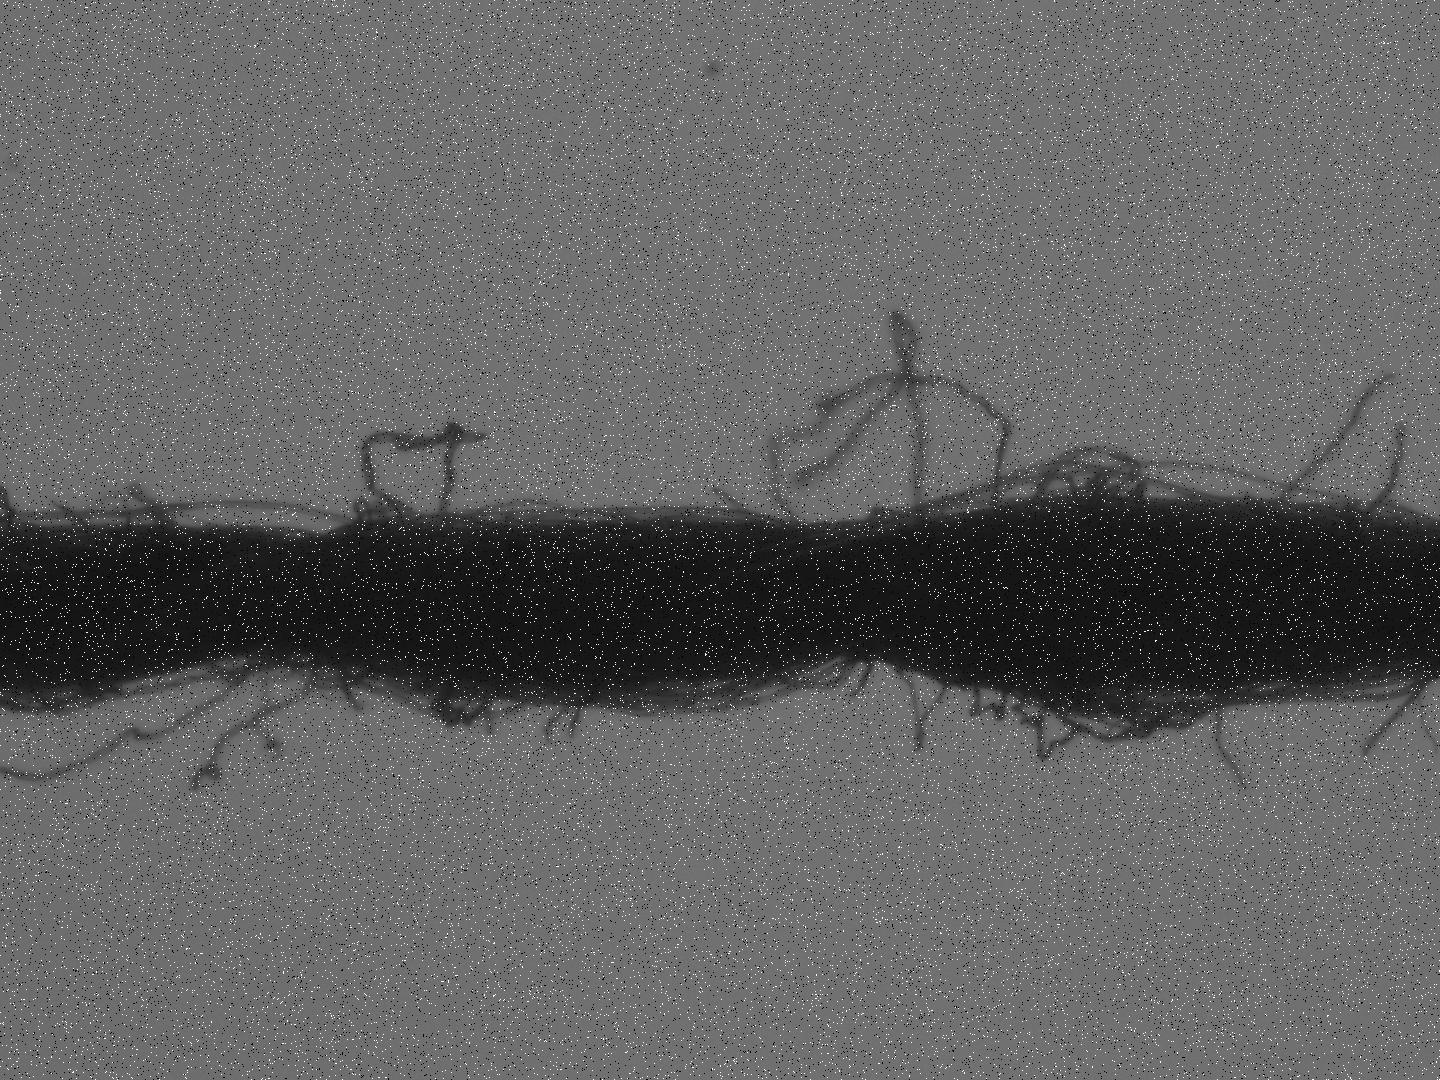loop_fiber: (517, 655, 857, 723), (1044, 690, 1293, 749), (353, 417, 477, 522), (1027, 441, 1143, 517), (893, 663, 958, 754), (425, 682, 510, 736), (772, 653, 863, 695), (293, 661, 373, 699), (962, 685, 1010, 729)
protruding_fiber: (1276, 366, 1398, 505), (1357, 680, 1433, 759)
